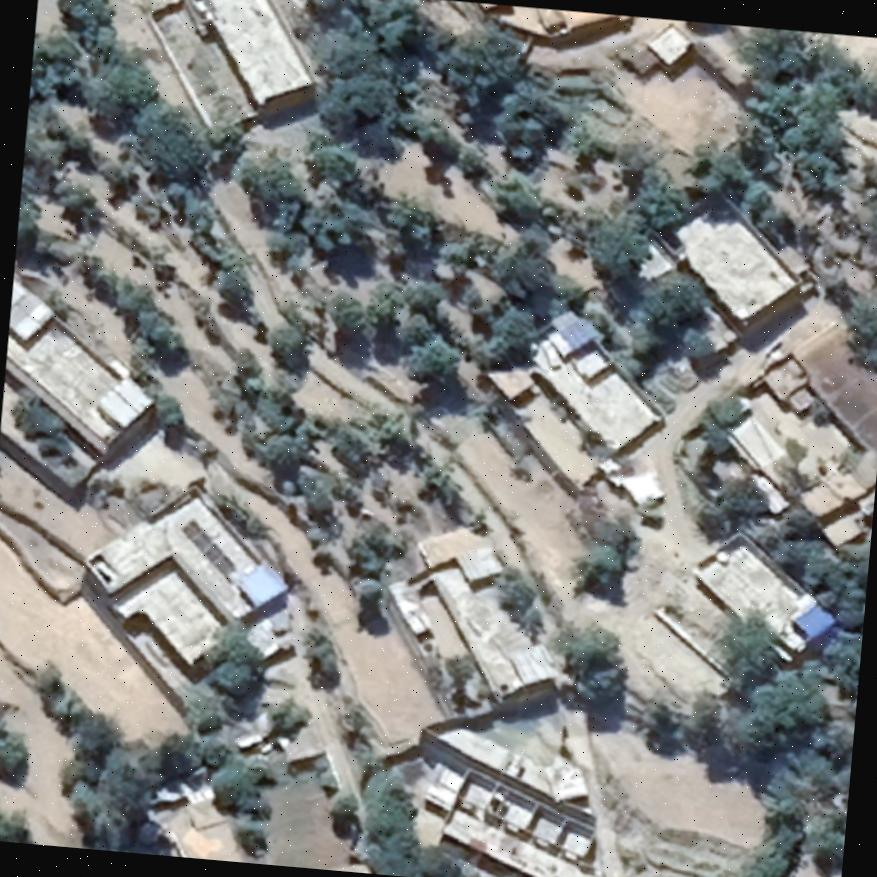Solarpanel: (178, 512, 240, 584)
